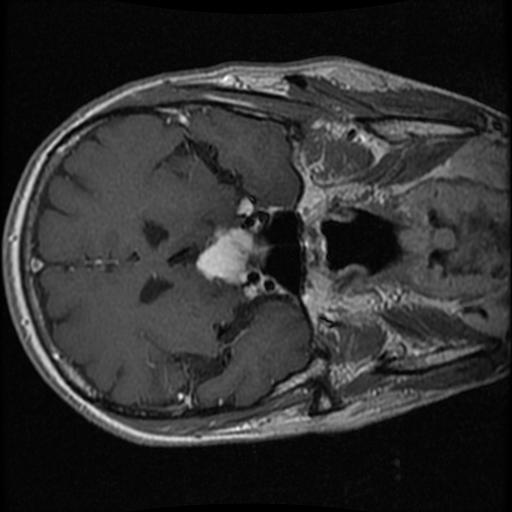meningioma: (197, 227, 266, 284)
